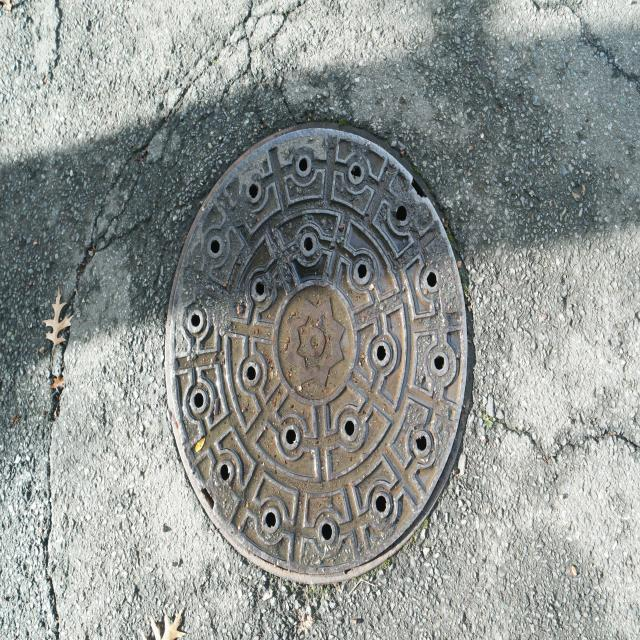manhole: (160, 121, 476, 589)
